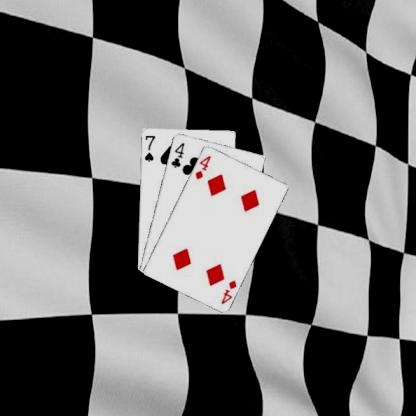4C: (168, 139, 186, 169)
4D: (192, 152, 212, 180), (218, 277, 238, 305)
7S: (142, 132, 156, 163)
